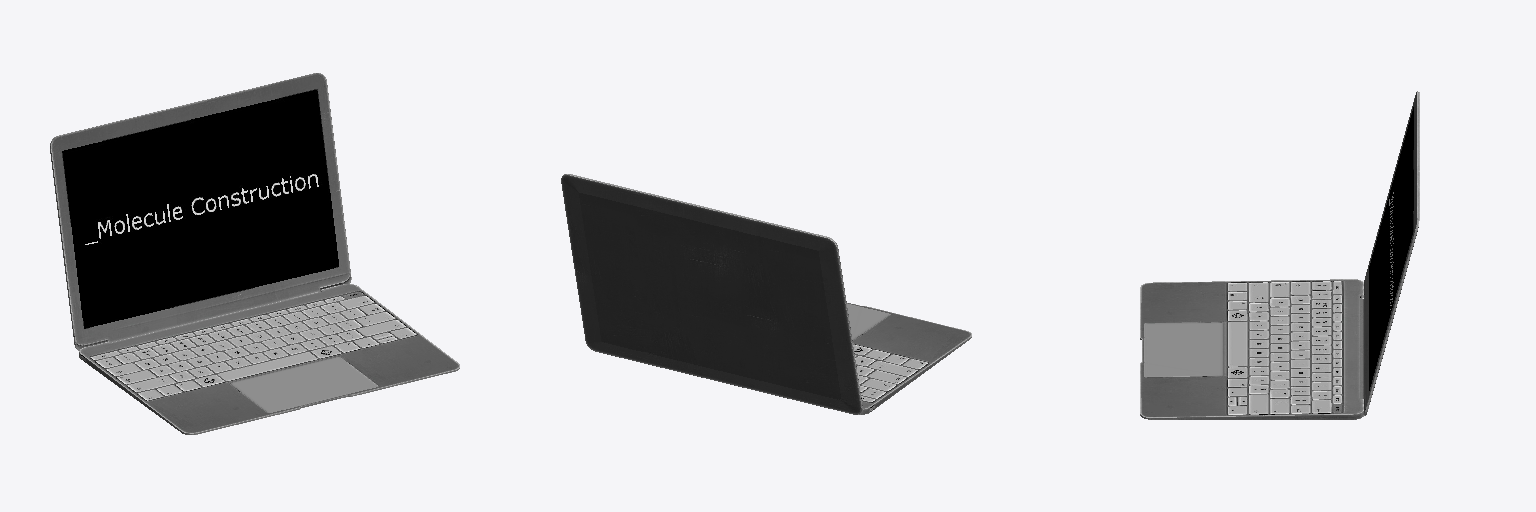
3 renders of one model, left to right at view 1: azimuth 30°, elevation 25°; view 2: azimuth 150°, elevation 25°; view 3: azimuth 270°, elevation 25°, orthographic.
Parts seen in each view (by area): view 1: screen, laptop; view 2: screen, laptop; view 3: laptop, screen.
Part boxes in pixels (left/top/right/bottom): screen: left=50, top=73, right=351, bottom=350; laptop: left=79, top=284, right=459, bottom=434; screen: left=561, top=174, right=862, bottom=414; laptop: left=847, top=303, right=971, bottom=414; laptop: left=1140, top=279, right=1363, bottom=419; screen: left=1360, top=91, right=1419, bottom=415.
Size of the model in its own units: 0.2819 by 0.1959 by 0.2459.
Materials: 1 (1 with a texture image).